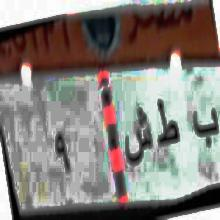9: (52, 125, 76, 182)
Taa: (158, 94, 178, 156)
baa: (193, 101, 220, 154)
sheen: (127, 100, 152, 175)
